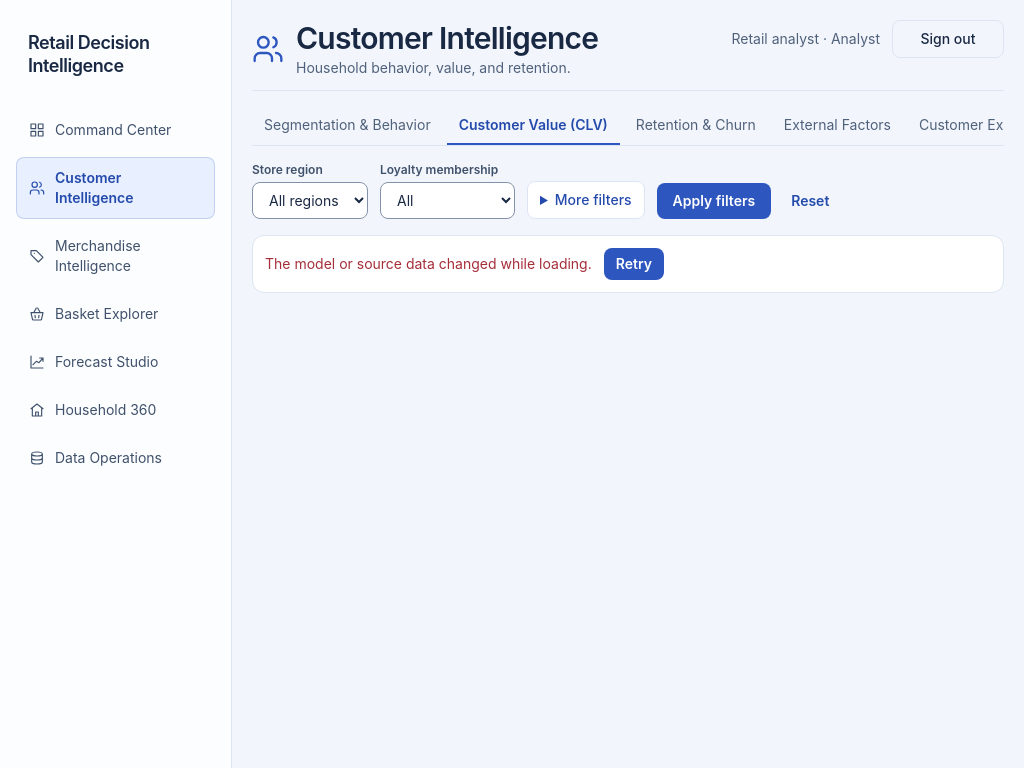
Customer Value › refreshes both views when the ranking came from a different model run
Expected: the message shows "model or source data changed", top-left (265, 255), bottom-right (592, 272)
Expected: the text "$875.42" is not shown
Click the button "Retry" at (634, 264), box top-left (604, 248), bottom-right (664, 280)
(page scrolled)
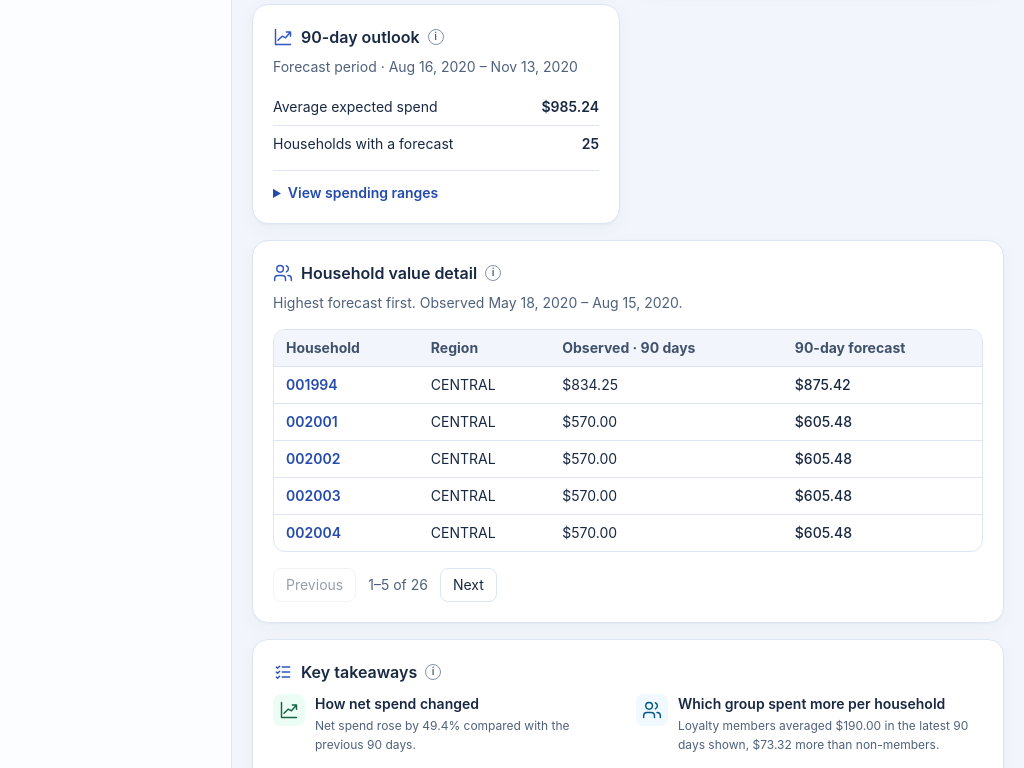
Now the text "$875.42" is shown, box top-left (783, 366), bottom-right (982, 404)
